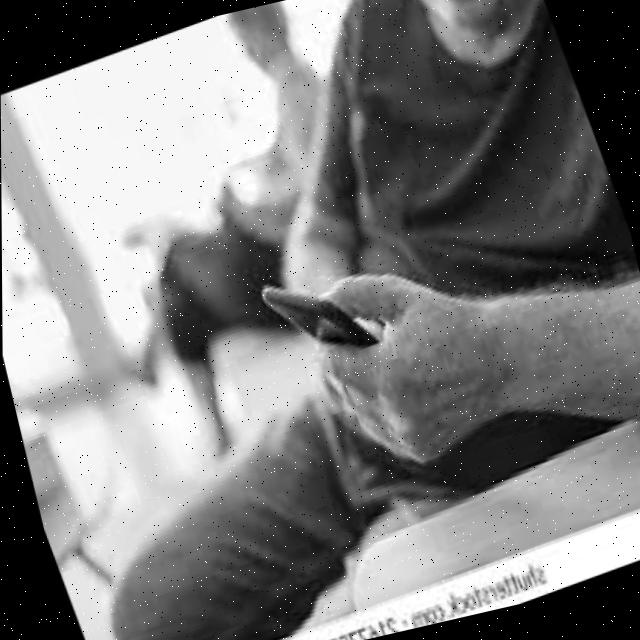phone: (254, 248, 384, 376)
